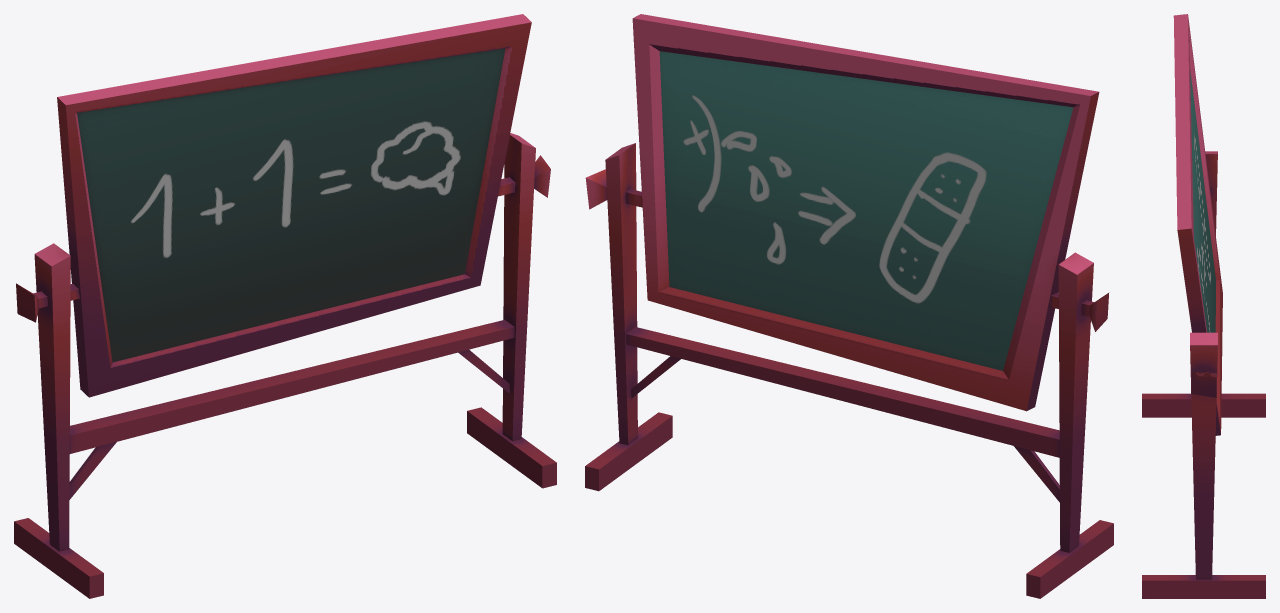
Rendered from OBS_ChalkBoard_01_Mesh.fbx.
3 renders of one model, left to right at view 1: azimuth 30°, elevation 25°; view 2: azimuth 150°, elevation 25°; view 3: azimuth 270°, elevation 25°, orthographic. The views are drawn at different scales.
Visible parts, largest first — view 1: blackboard; view 2: blackboard; view 3: blackboard.
Part boxes in pixels (left/top/right/bottom): blackboard: left=14, top=14, right=556, bottom=598; blackboard: left=585, top=14, right=1113, bottom=598; blackboard: left=1142, top=14, right=1265, bottom=598.
Size of the model in its own units: 3.52 by 3.1 by 0.8786.
